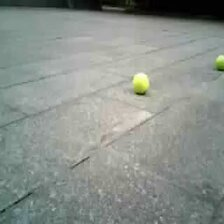tennis: (133, 72, 149, 93), (216, 54, 224, 69)
